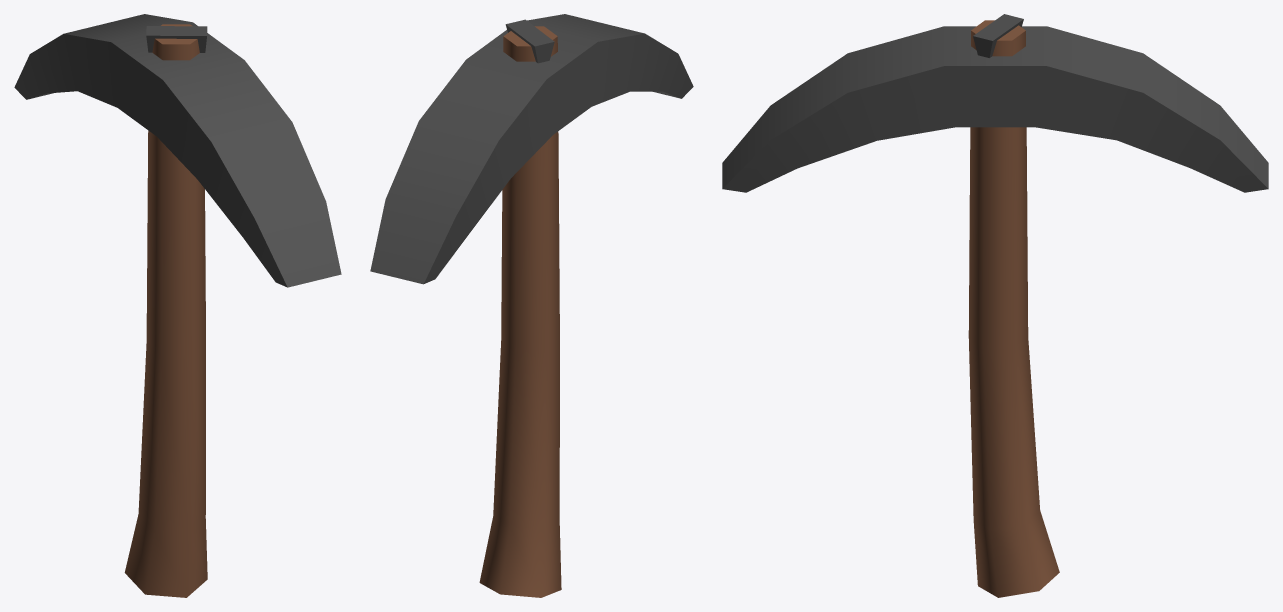
Rendered from pickaxe.fbx.
3 views of the same model, side by side, from view 1: azimuth 30°, elevation 25°; view 2: azimuth 150°, elevation 25°; view 3: azimuth 270°, elevation 25° (orthographic).
Visible parts, largest first — view 1: pickaxe.001, pickaxe; view 2: pickaxe.001, pickaxe; view 3: pickaxe.001, pickaxe.
Part boxes in pixels (x1,y1,x2,y2): pickaxe.001: (14,14,341,287); pickaxe: (124,24,207,597); pickaxe.001: (370,14,693,284); pickaxe: (479,26,561,597); pickaxe.001: (722,14,1268,192); pickaxe: (968,20,1059,597).
Bounding box in the file's own units: 14 × 91.65 × 81.2.
